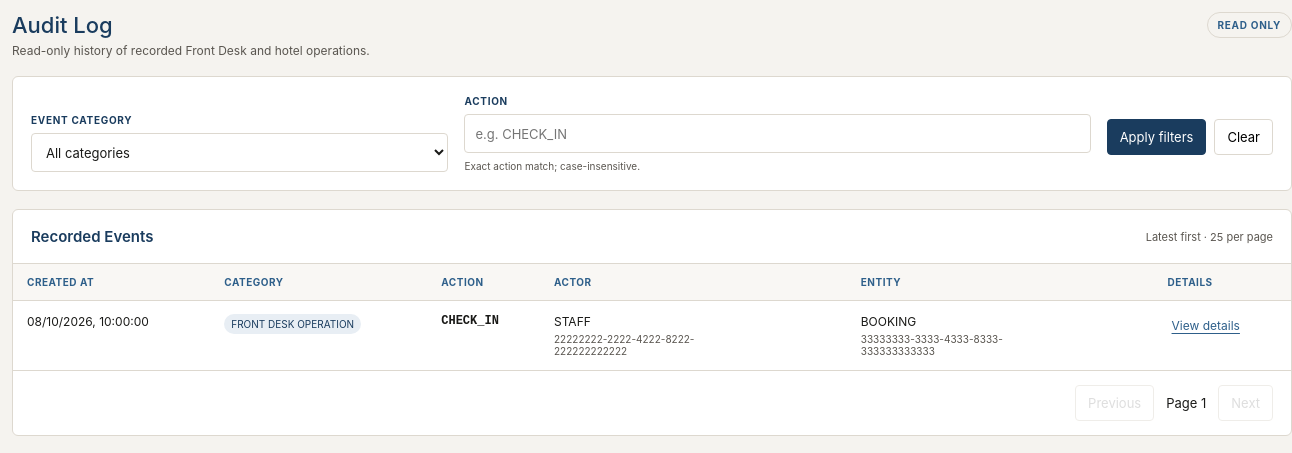
Test: AuditLogScreen › clears filters and restores the first page
Expected: the text "CHECK_IN" is shown, [427, 300, 540, 370]
Type "CHECK_OUT" into the field labelled "ACTION" at (778, 134), box [464, 114, 1091, 153]
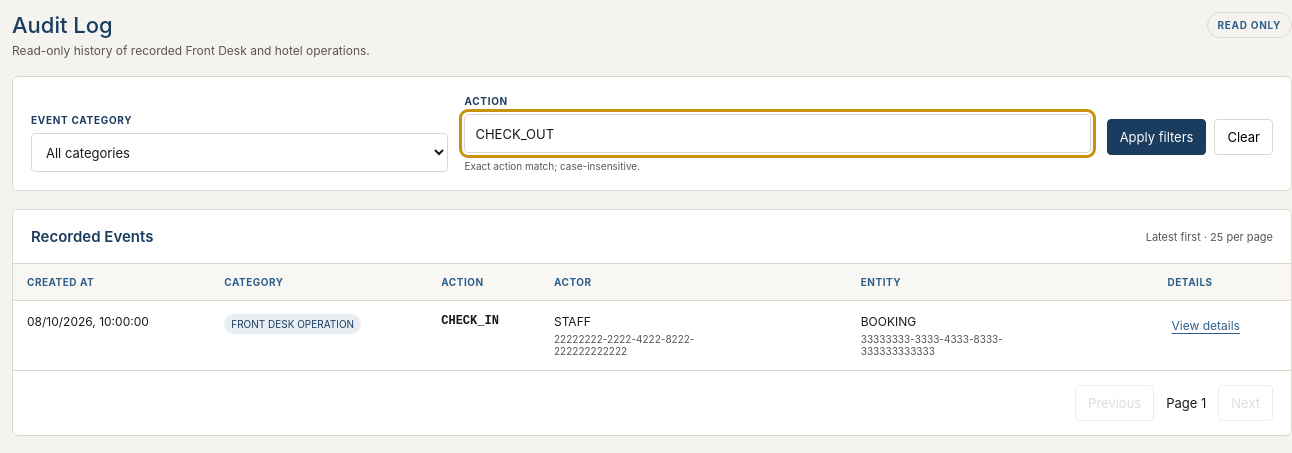
Click the button "Apply filters" at (1156, 137), box [1107, 119, 1206, 155]
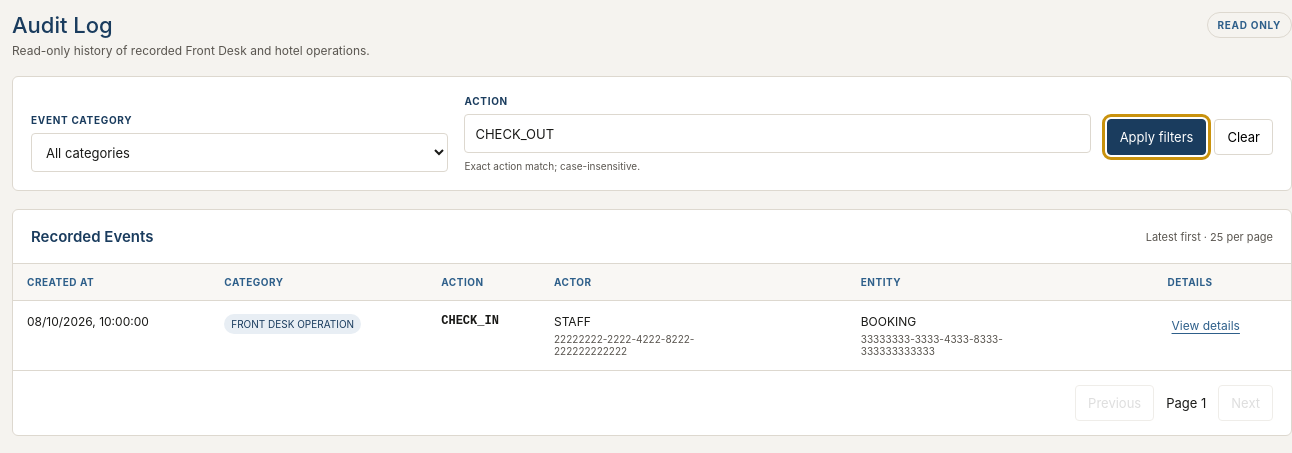
Click the button "Clear" at (1244, 137), box [1214, 119, 1273, 155]
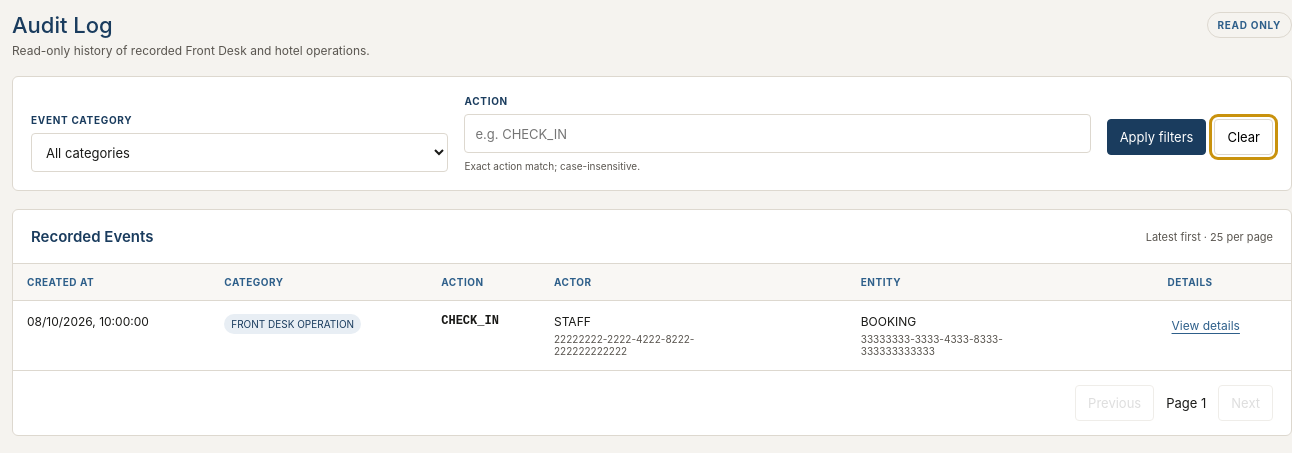
Expected: the text "Page 1" is shown, [1166, 395, 1206, 411]
Expected: the field labelled "ACTION" is empty, [464, 114, 1091, 153]
